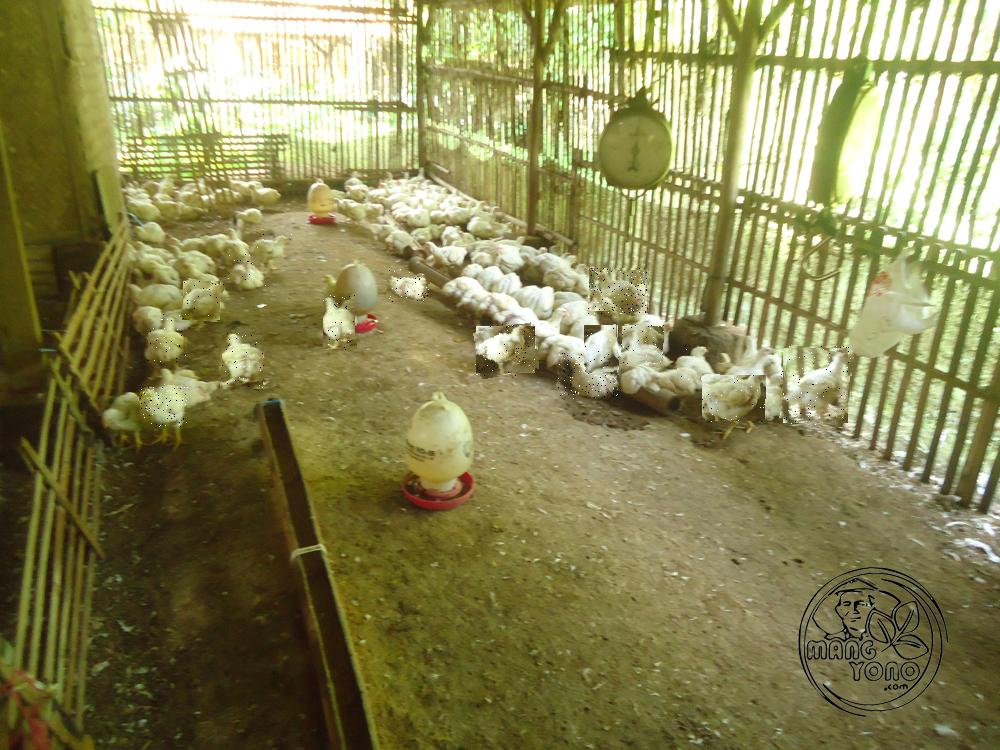chicken: (782, 346, 852, 426), (476, 325, 538, 377), (703, 376, 768, 423), (557, 353, 618, 399), (589, 269, 649, 315), (221, 334, 264, 389), (140, 384, 188, 428), (149, 311, 187, 363), (324, 294, 357, 350), (621, 325, 664, 367), (585, 325, 621, 373), (183, 280, 223, 321), (677, 345, 720, 382), (223, 254, 267, 286), (388, 269, 430, 302), (253, 230, 292, 260)
